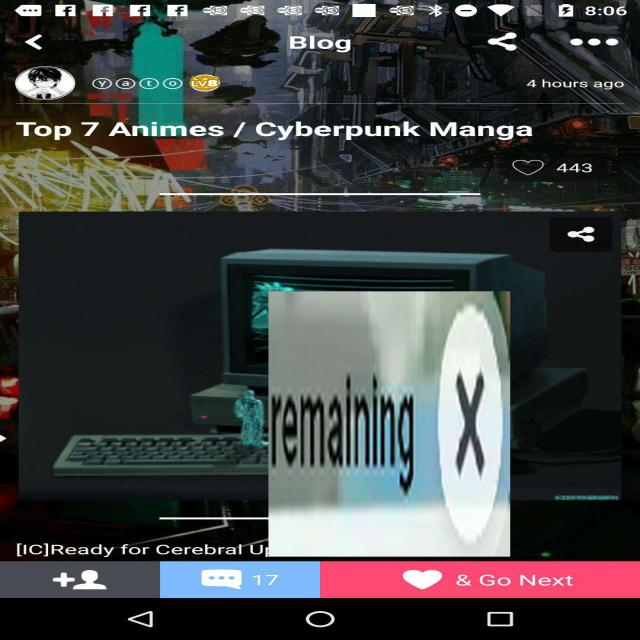misdirection: (268, 291, 511, 557)
